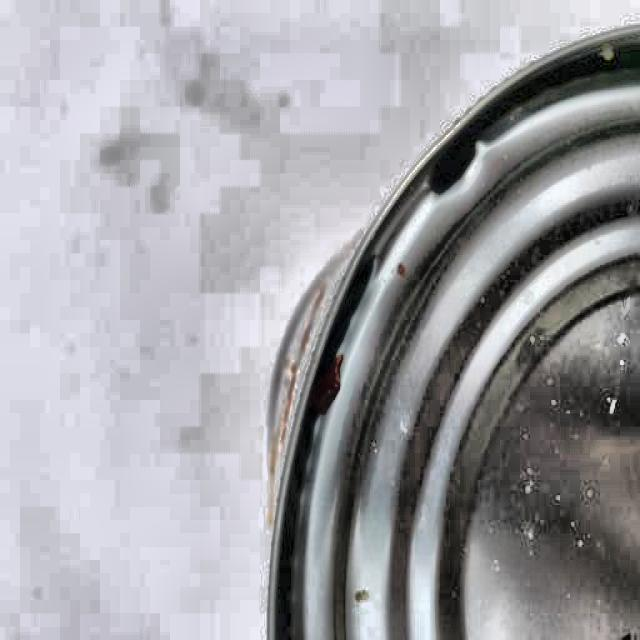metal: (266, 0, 640, 640)
